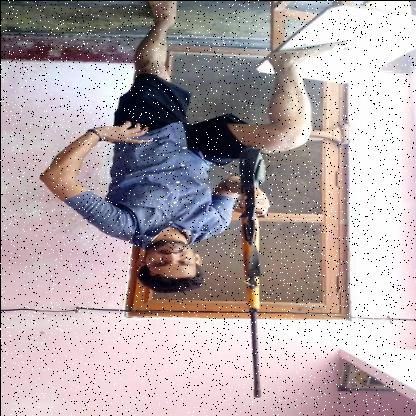rifle: (232, 142, 273, 398)
